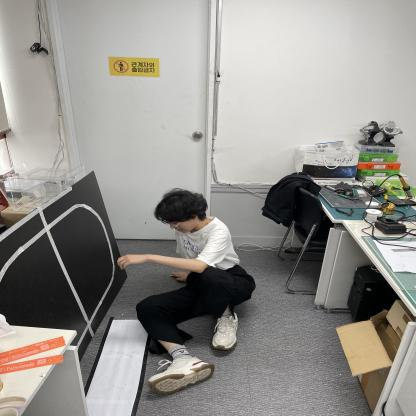fall: (117, 186, 255, 388)
